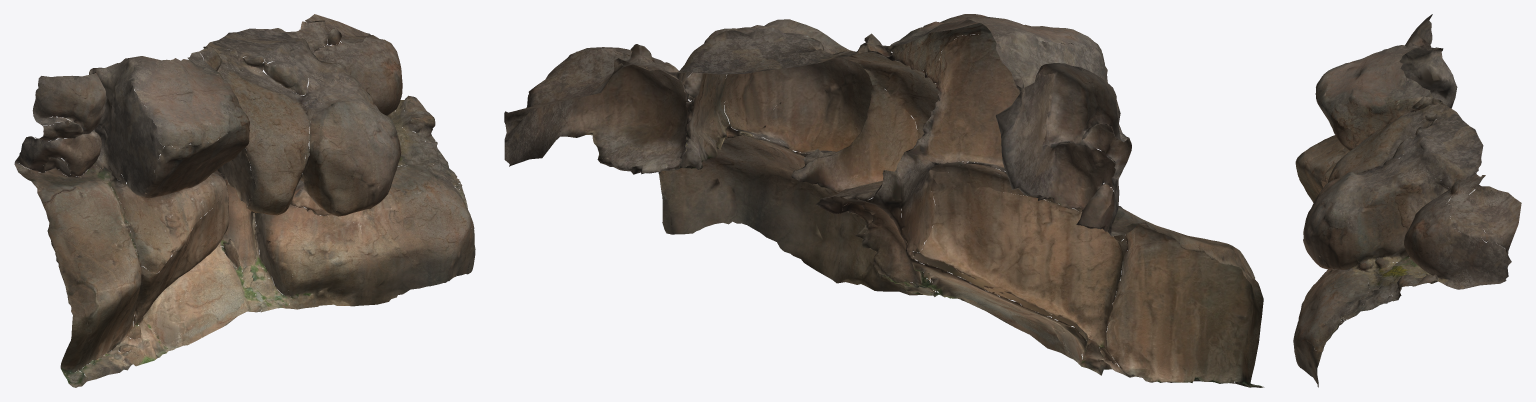
File: namaqualand_cliff_01_lod0.glb
3 renders of one model, left to right at view 1: azimuth 30°, elevation 25°; view 2: azimuth 150°, elevation 25°; view 3: azimuth 270°, elevation 25°, orthographic. The views are drawn at different scales.
Parts seen in each view (by area): view 1: drone_rock_01; view 2: drone_rock_01; view 3: drone_rock_01.
Part boxes in pixels (left/top/right/bottom): drone_rock_01: left=14, top=14, right=475, bottom=387; drone_rock_01: left=504, top=14, right=1264, bottom=387; drone_rock_01: left=1293, top=14, right=1521, bottom=387.
Size of the model in its own units: 8.28 by 4.96 by 4.39.
1 material, 1 textured.
